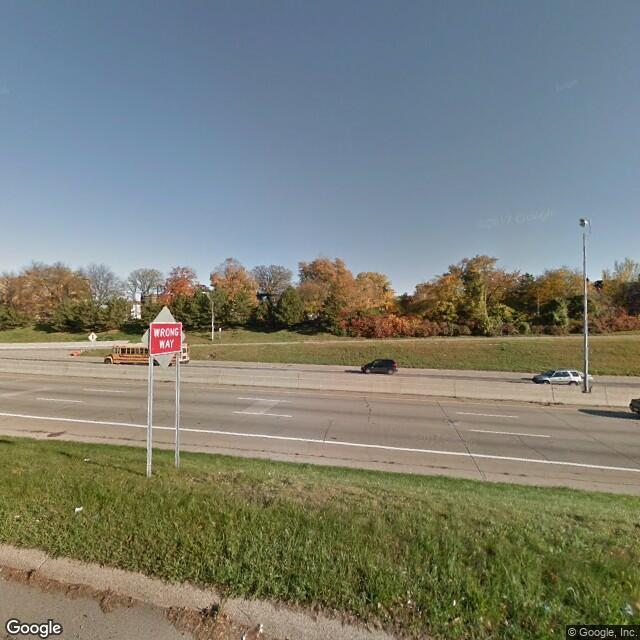litter: (243, 625, 269, 638), (621, 603, 633, 620), (75, 456, 93, 465), (70, 505, 89, 513)
